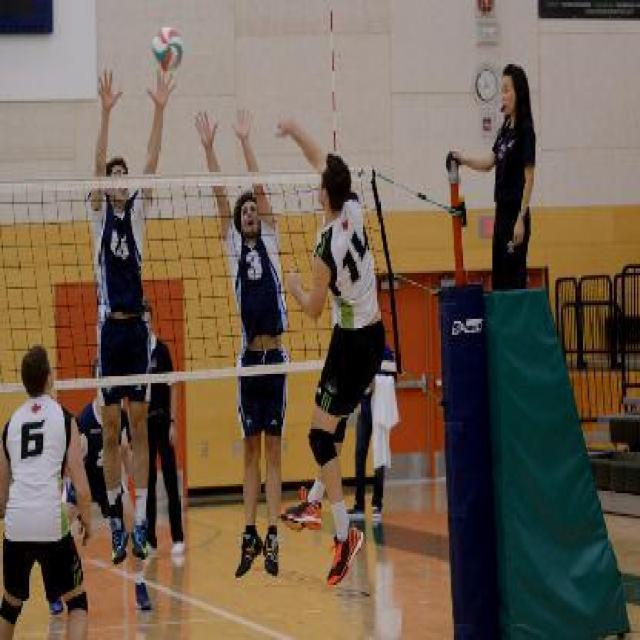volleyball: (151, 26, 185, 71)
